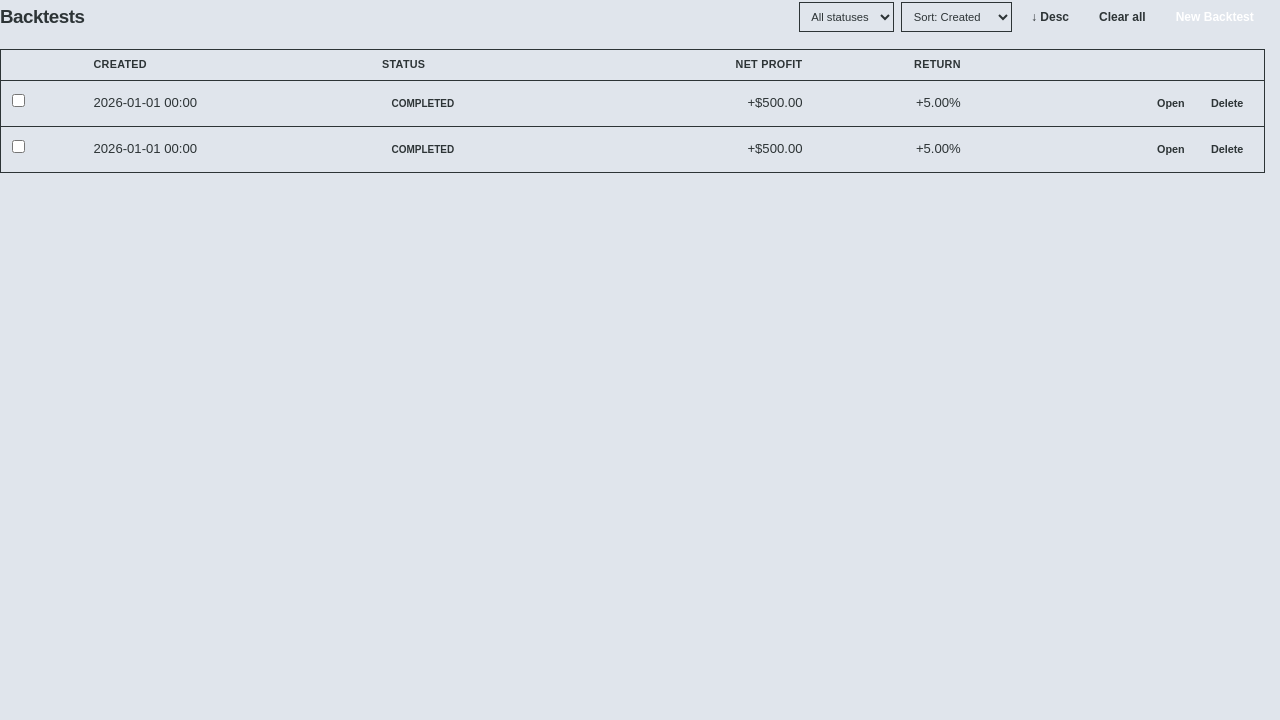
BacktestListPage › prunes a deleted run from the comparison selection
Expected: the table with test id "runs-table" is shown, x1=1 y1=50 x2=1264 y2=172
What coordinates should you click on to do the following:
click the checkbox named "Select run-1"
I would click on:
 (19, 101)
Its box is x1=12 y1=94 x2=25 y2=107.
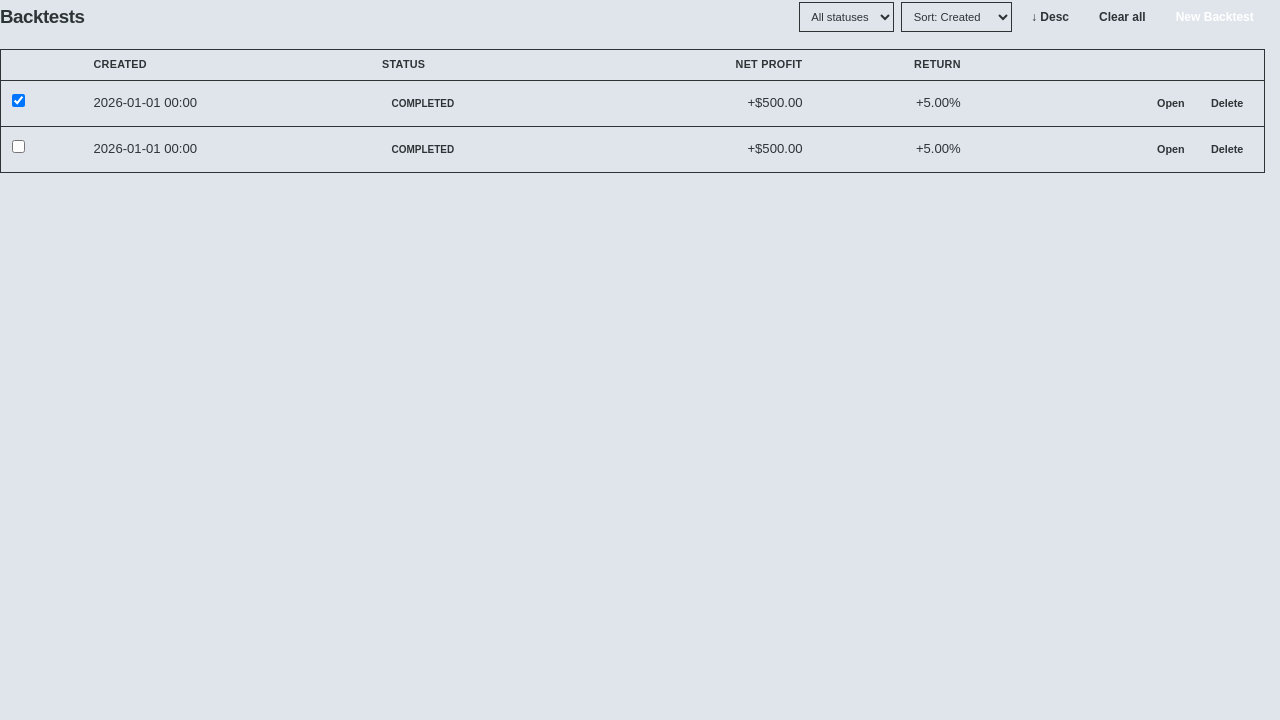
What coordinates should you click on to do the following:
click the checkbox named "Select run-2"
I would click on:
 (19, 147)
Its box is x1=12 y1=140 x2=25 y2=153.
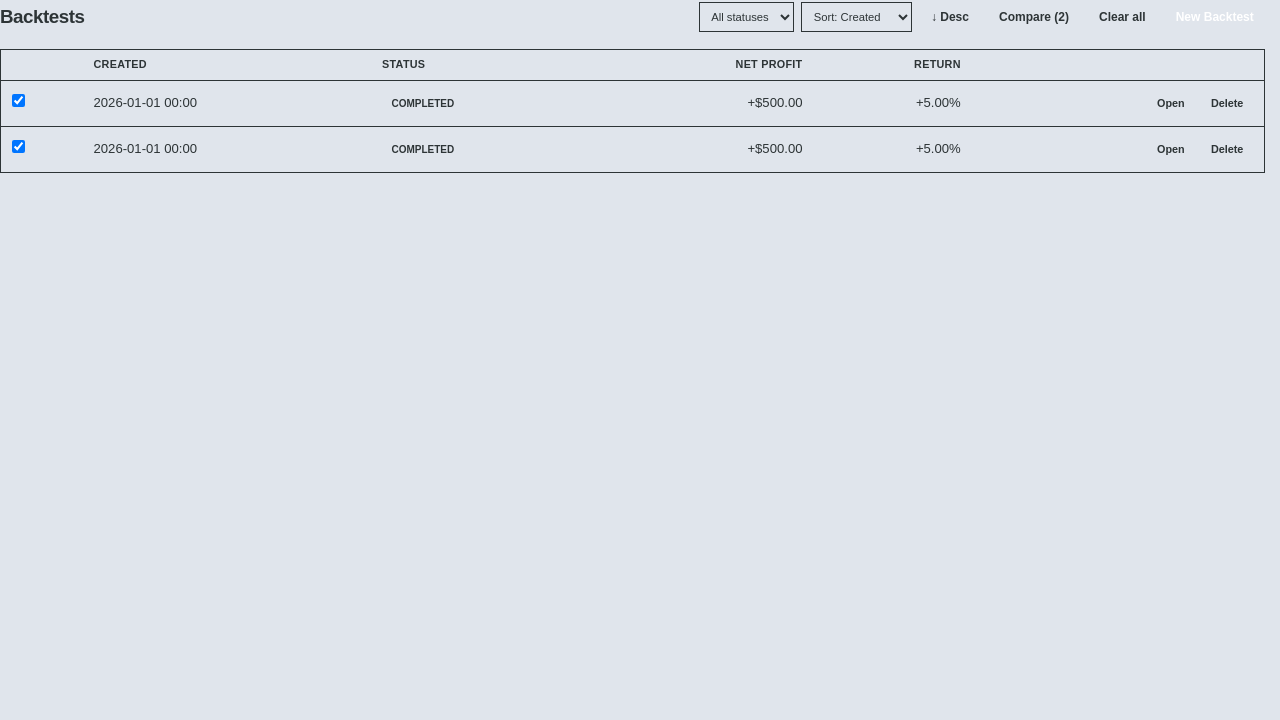
Expected: the button "Compare (2)" is shown, x1=988 y1=0 x2=1080 y2=34
# Delete run-1 → confirm in the dialog → selection drops to run-2 → Compare hidden.
What coordinates should you click on to do the following:
click the button with aria-label "Delete run-1"
I would click on:
 (1227, 104)
Its box is x1=1202 y1=89 x2=1253 y2=119.
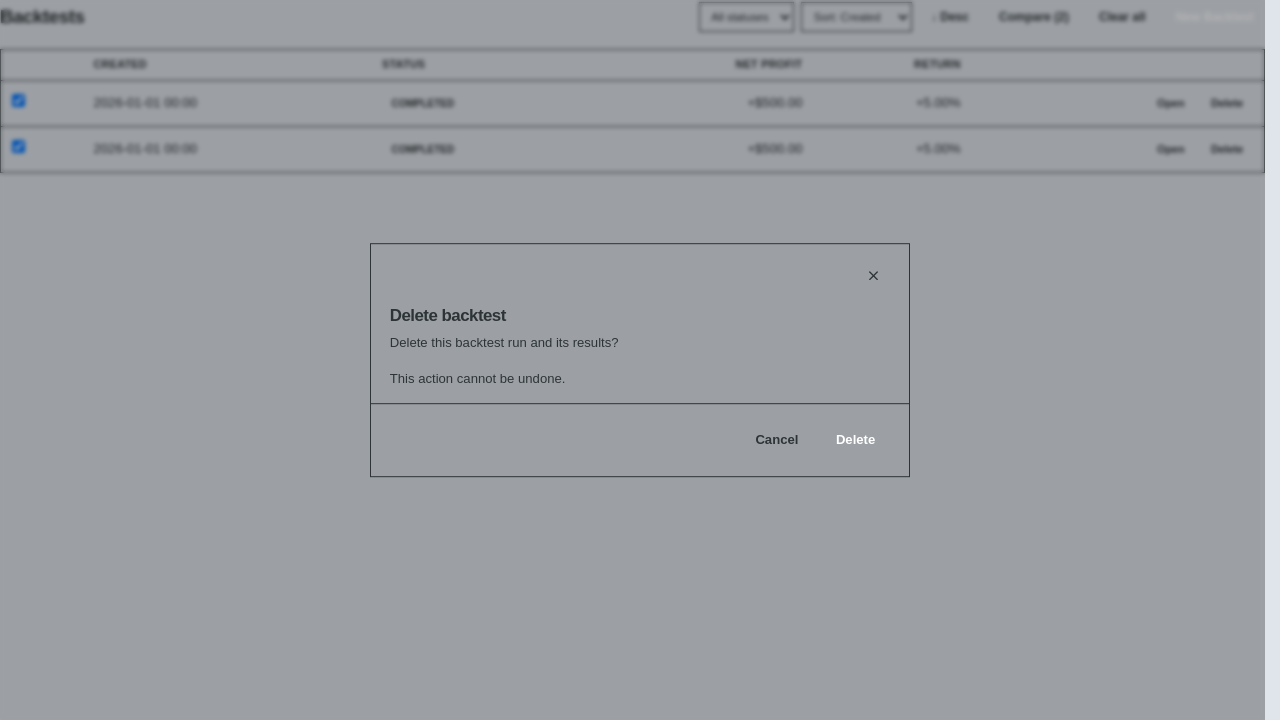
What coordinates should you click on to do the following:
click the button "Delete"
I would click on:
 (856, 440)
Its box is x1=821 y1=420 x2=890 y2=461.
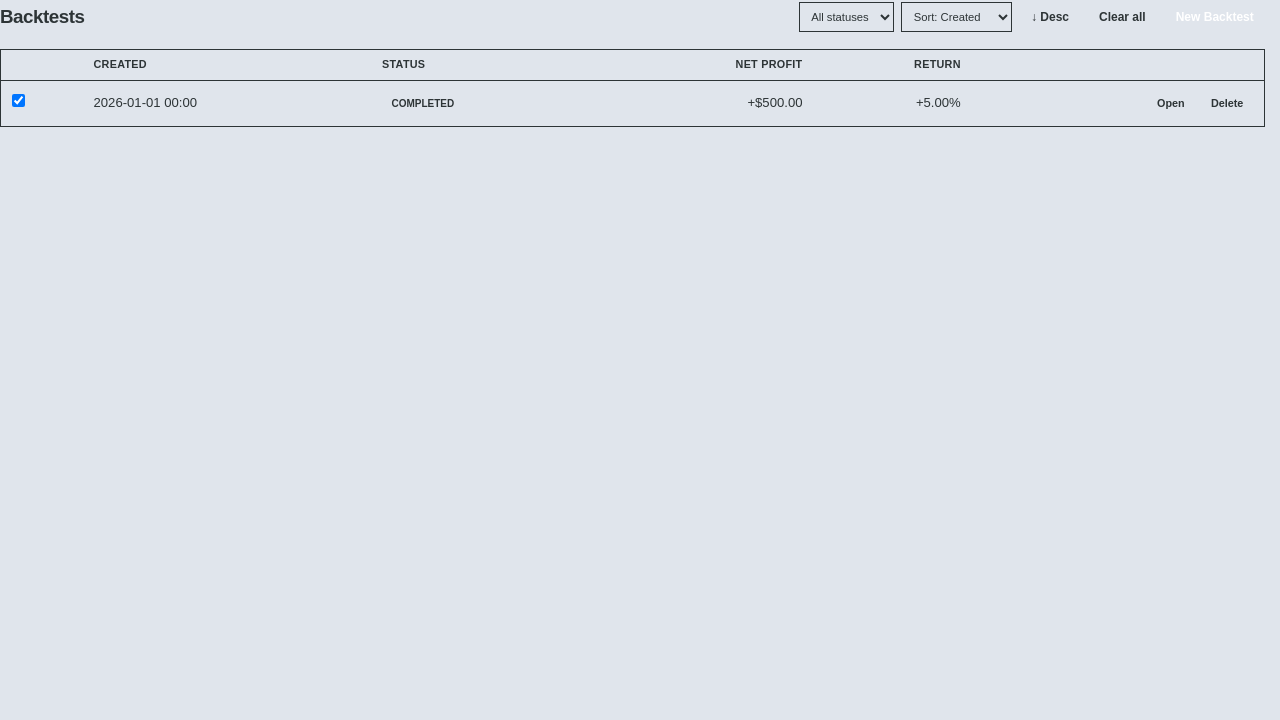
Expected: the button "Compare" is gone
